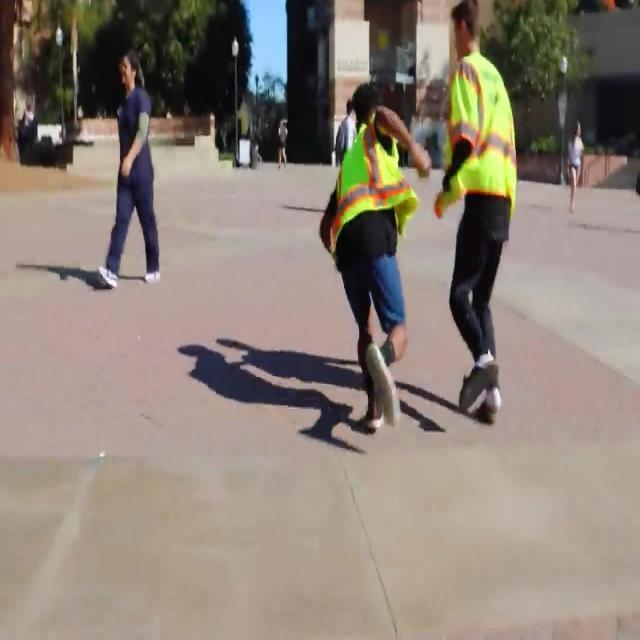reflective_jacket: (436, 49, 527, 227), (325, 121, 422, 260)
